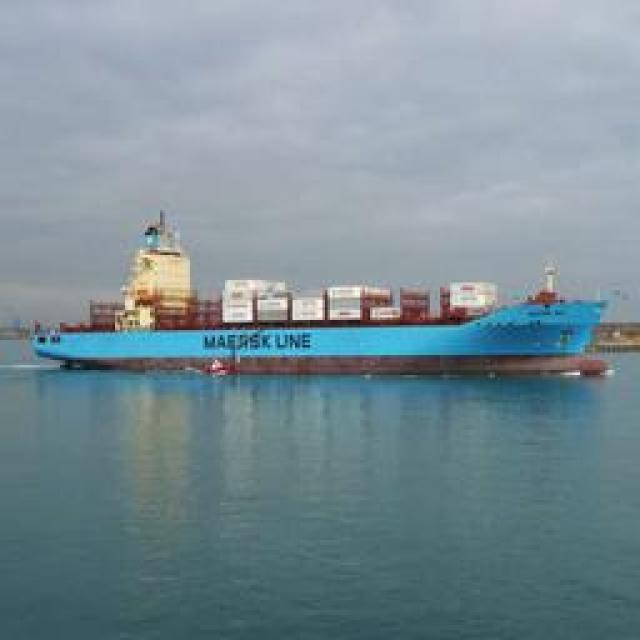ship2: (32, 209, 611, 380)
